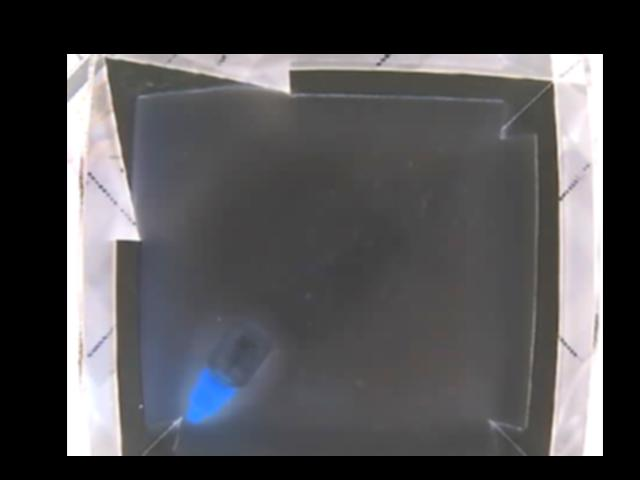Bottle: (183, 317, 274, 425)
